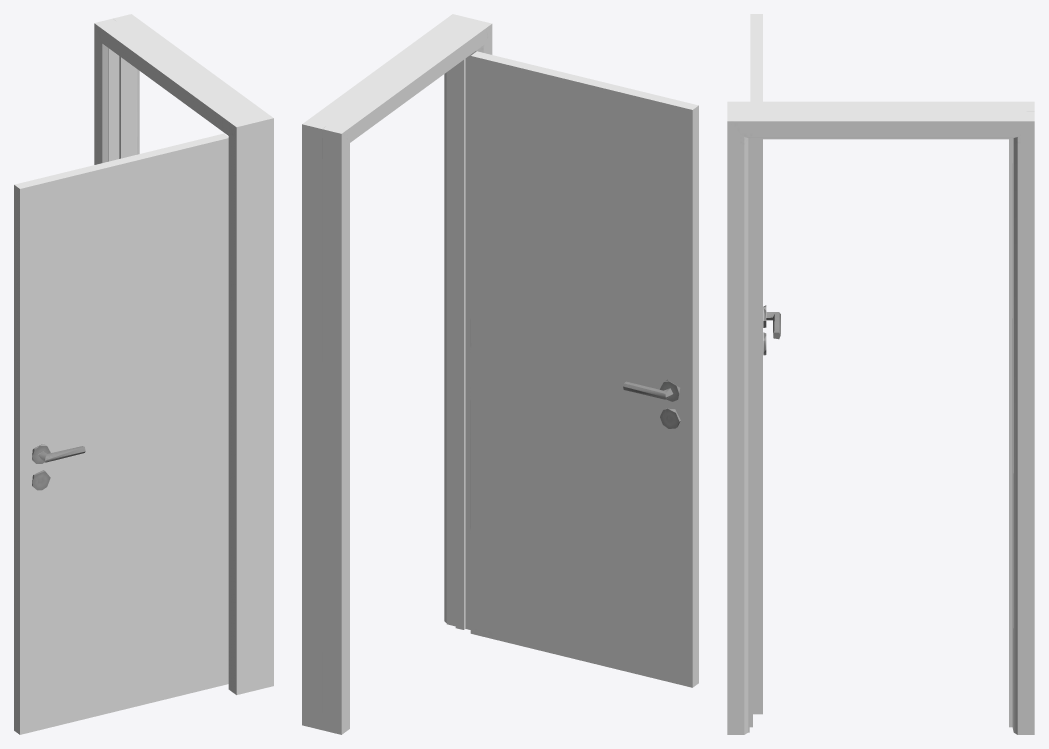
File: Door0010open.obj
The picture shows the model from 3 angles, left to right: view 1: azimuth 30°, elevation 25°; view 2: azimuth 150°, elevation 25°; view 3: azimuth 270°, elevation 25°; orthographic projection. The views are drawn at different scales.
Size of the model in its own units: 0.951 by 2.12 by 0.964.
Materials: 1 (1 with a texture image).
